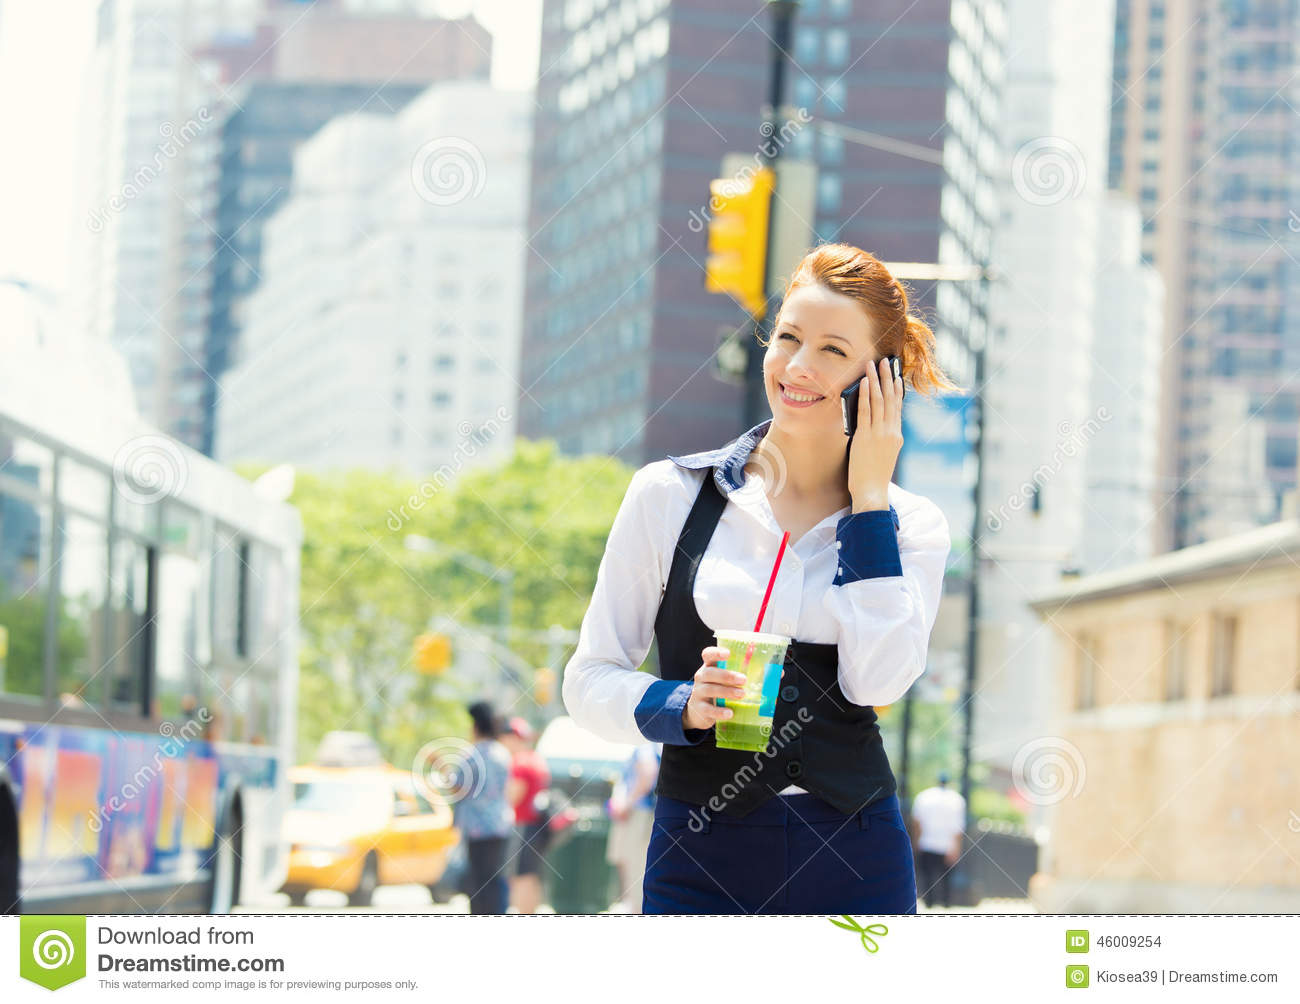phone: (839, 359, 899, 435)
talk: (760, 318, 908, 505)
